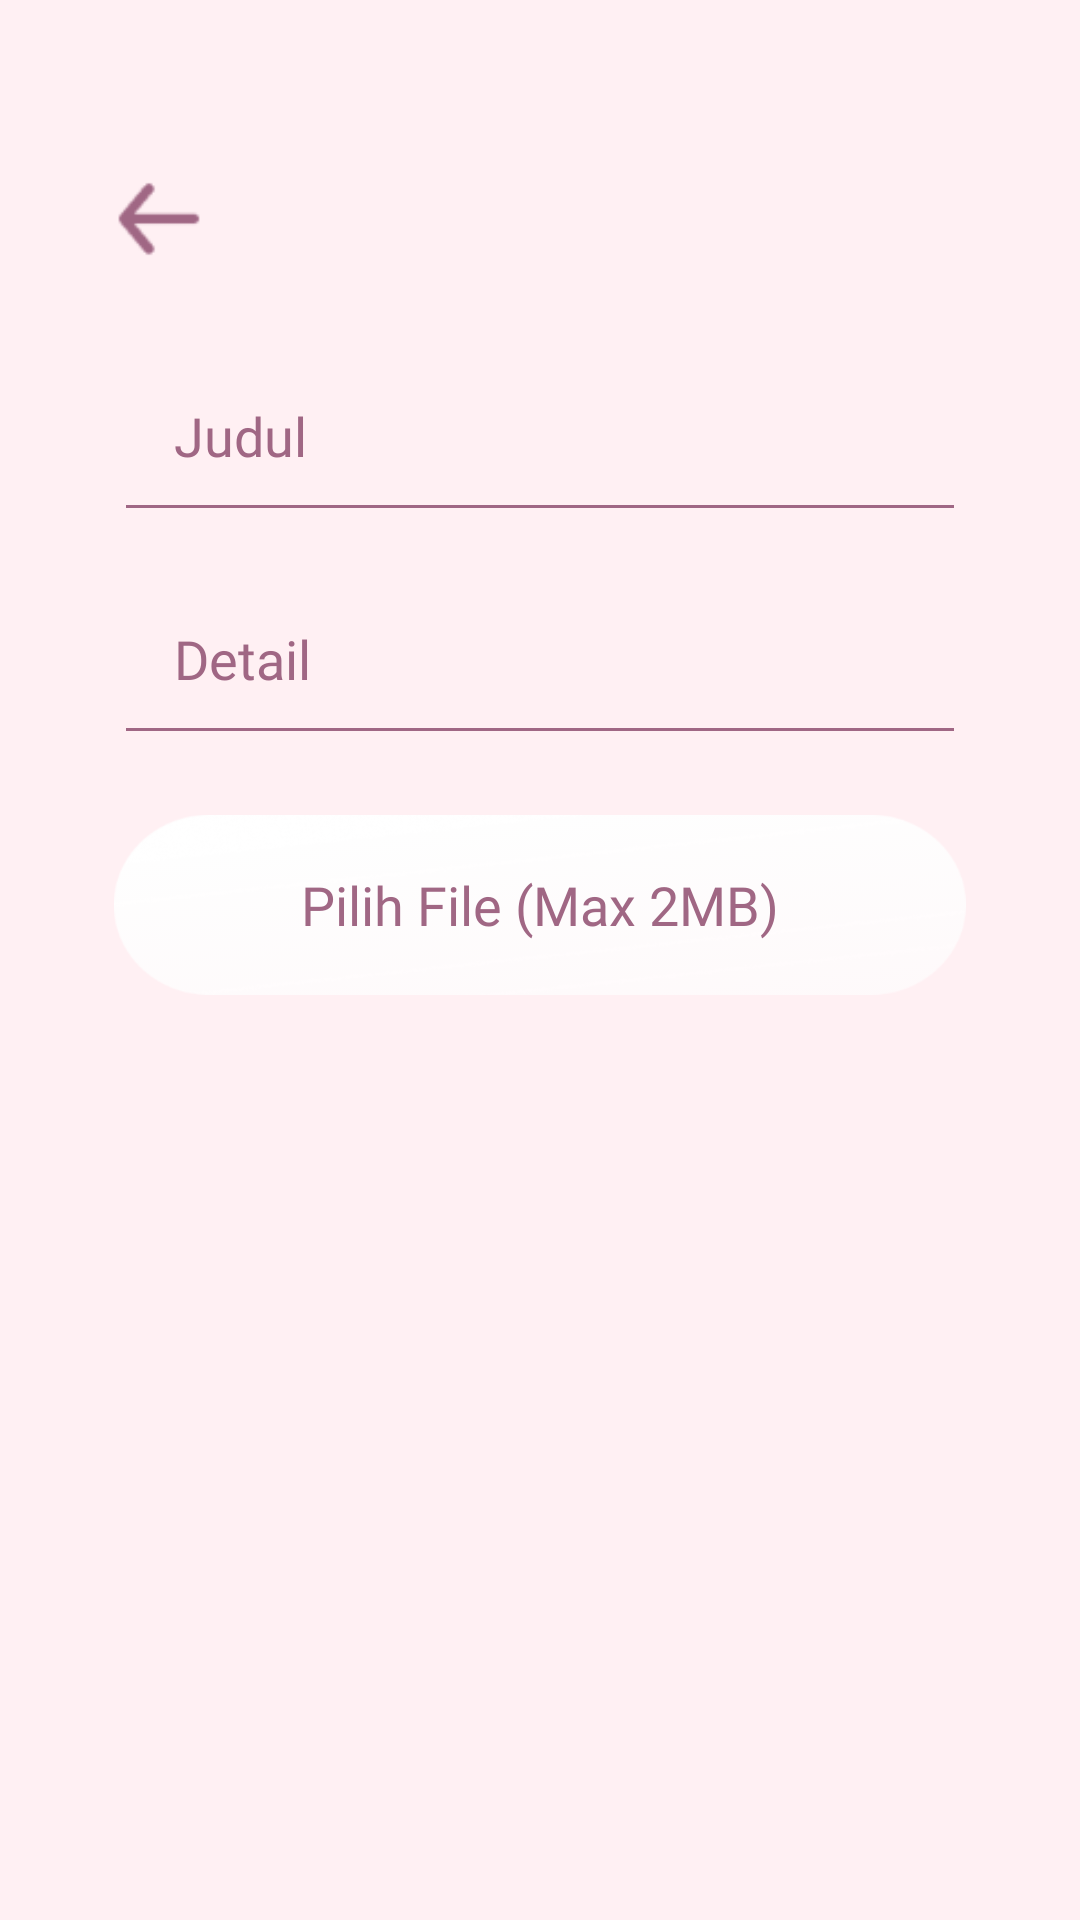

Icon click points for this 1080 × 1920 phone screenshot, format point (x, y):
tombol kembali: point (159, 219)
